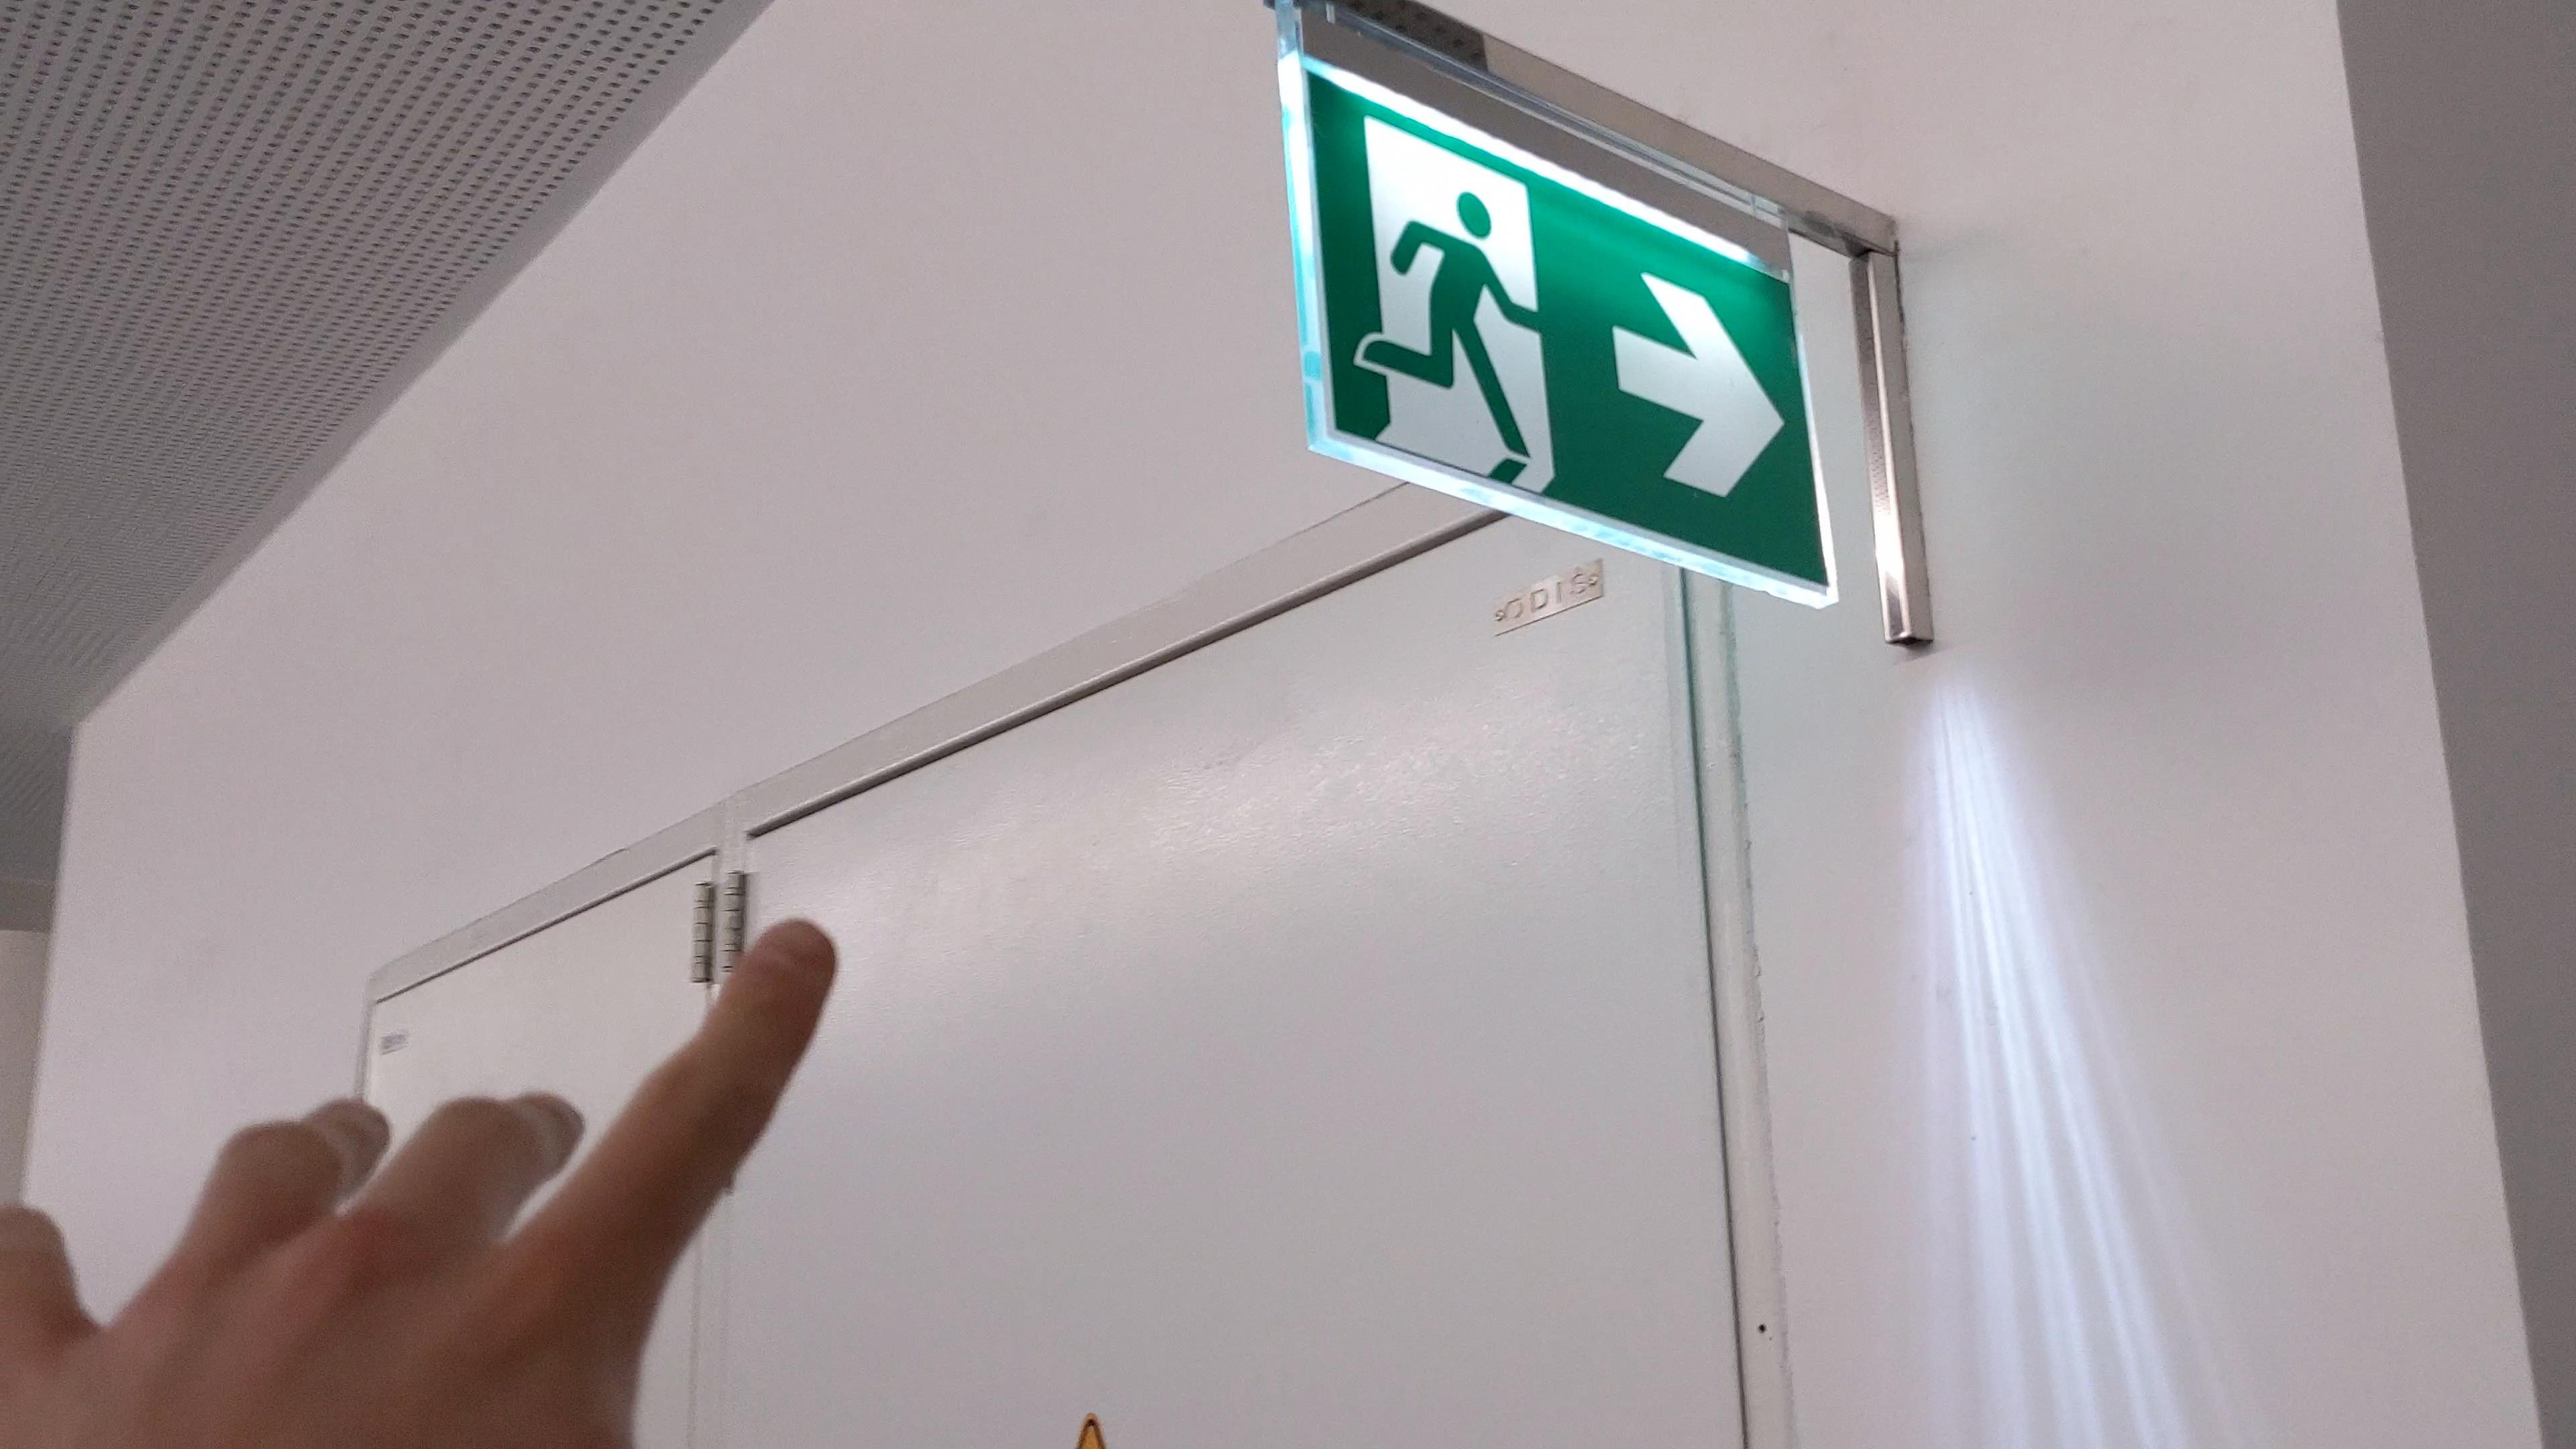emergency exit: (1347, 105, 1574, 503)
emergency right arrow: (1600, 260, 1796, 508)
